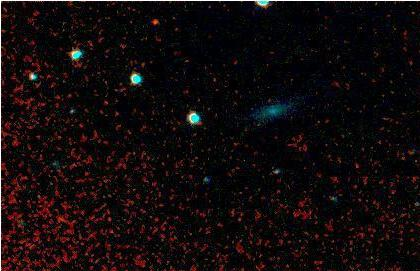star: (142, 7, 172, 37)
